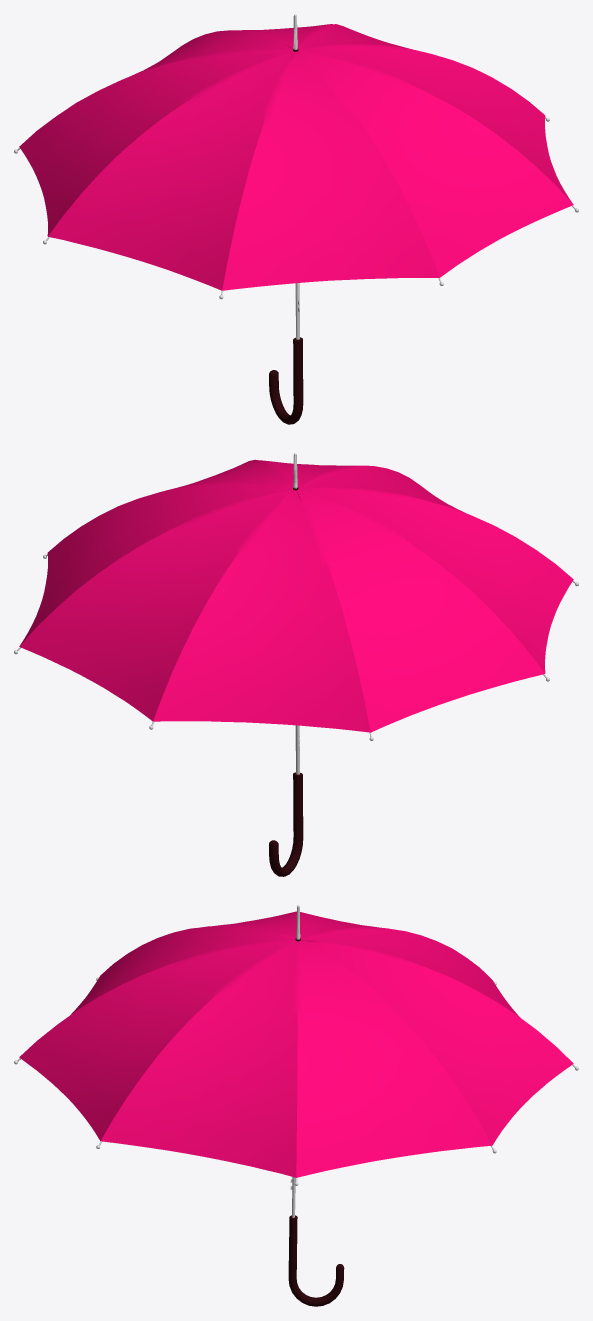
File: umbrella.glb
3 views of the same model, one above another, from view 1: azimuth 30°, elevation 25°; view 2: azimuth 150°, elevation 25°; view 3: azimuth 270°, elevation 25° (orthographic). The views are drawn at different scales.
Parts seen in each view (by area): view 1: CuteUmbrella_CrossPink_CuteUmbrella_Log556-GRP-378912-CrossP, CuteUmbrella_White_CuteUmbrella_Log556-GRP-378912-White, CuteUmbrella_Material_CuteUmbrella_Log556-GRP-378912-Default; view 2: CuteUmbrella_CrossPink_CuteUmbrella_Log556-GRP-378912-CrossP, CuteUmbrella_White_CuteUmbrella_Log556-GRP-378912-White, CuteUmbrella_Material_CuteUmbrella_Log556-GRP-378912-Default; view 3: CuteUmbrella_CrossPink_CuteUmbrella_Log556-GRP-378912-CrossP, CuteUmbrella_White_CuteUmbrella_Log556-GRP-378912-White.
Part boxes in pixels (box(x1,y1,x2,y2)): CuteUmbrella_CrossPink_CuteUmbrella_Log556-GRP-378912-CrossP: box(19, 24, 573, 290); CuteUmbrella_White_CuteUmbrella_Log556-GRP-378912-White: box(269, 49, 303, 424); CuteUmbrella_Material_CuteUmbrella_Log556-GRP-378912-Default: box(14, 14, 578, 339); CuteUmbrella_CrossPink_CuteUmbrella_Log556-GRP-378912-CrossP: box(19, 459, 573, 732); CuteUmbrella_White_CuteUmbrella_Log556-GRP-378912-White: box(269, 487, 303, 876); CuteUmbrella_Material_CuteUmbrella_Log556-GRP-378912-Default: box(14, 453, 578, 774); CuteUmbrella_CrossPink_CuteUmbrella_Log556-GRP-378912-CrossP: box(19, 911, 573, 1177); CuteUmbrella_White_CuteUmbrella_Log556-GRP-378912-White: box(288, 938, 344, 1306).
Size of the model in its own units: 1.99 by 1.56 by 2.
